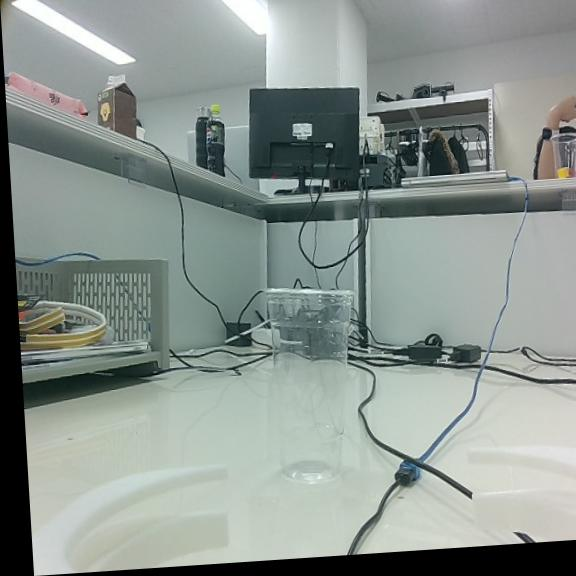Plastik: (267, 289, 353, 481)
